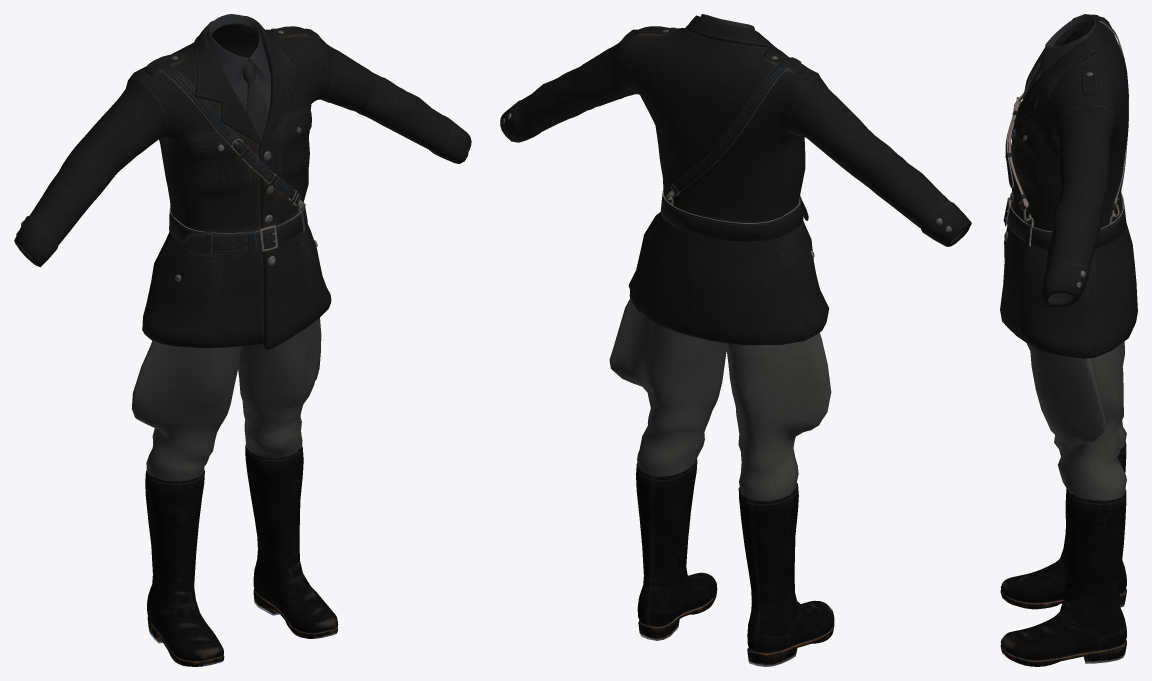
Rendered from DivisaSoldato.glb.
3 renders of one model, left to right at view 1: azimuth 30°, elevation 25°; view 2: azimuth 150°, elevation 25°; view 3: azimuth 270°, elevation 25°, orthographic. The views are drawn at different scales.
Parts seen in each view (by area): view 1: 37_low, 21_low, 23_low, 22_low, 25_low, 24_low, 1_low, 10_low, 26_low; view 2: 37_low, 21_low, 23_low, 22_low, 1_low, 10_low, 25_low; view 3: 37_low, 22_low, 21_low, 23_low, 25_low, 1_low, 24_low, 10_low, 38_low, 12_low.
Part boxes in pixels (box(x1,y1,x2,y2)): 37_low: box(14, 24, 471, 350); 21_low: box(131, 318, 321, 481); 23_low: box(145, 470, 224, 666); 22_low: box(245, 444, 338, 638); 25_low: box(193, 15, 300, 150); 24_low: box(206, 14, 270, 113); 1_low: box(169, 202, 307, 253); 10_low: box(161, 64, 300, 205); 26_low: box(243, 61, 268, 139); 37_low: box(500, 27, 971, 345); 21_low: box(609, 298, 831, 501); 23_low: box(738, 483, 834, 666); 22_low: box(636, 459, 717, 640); 1_low: box(660, 190, 808, 241); 10_low: box(671, 57, 801, 195); 25_low: box(686, 15, 787, 56); 37_low: box(1000, 14, 1137, 358); 22_low: box(1000, 488, 1126, 666); 21_low: box(1027, 341, 1126, 500); 23_low: box(1000, 442, 1126, 609); 25_low: box(1014, 16, 1105, 122); 1_low: box(1003, 193, 1126, 250); 24_low: box(1039, 14, 1096, 76); 10_low: box(1008, 18, 1128, 210); 38_low: box(1081, 67, 1099, 95); 12_low: box(1005, 114, 1013, 188).
Bounding box in the file's own units: 1.2 × 1.56 × 0.3194.
4 materials, 4 textured.
